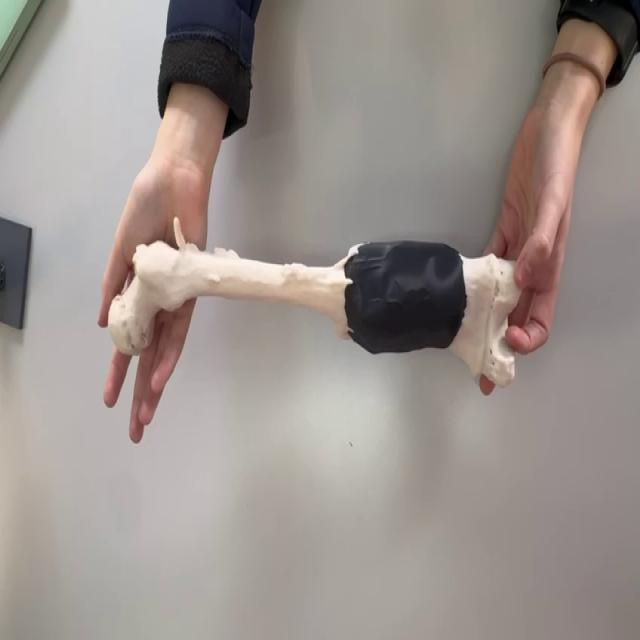bones: (108, 218, 519, 386)
